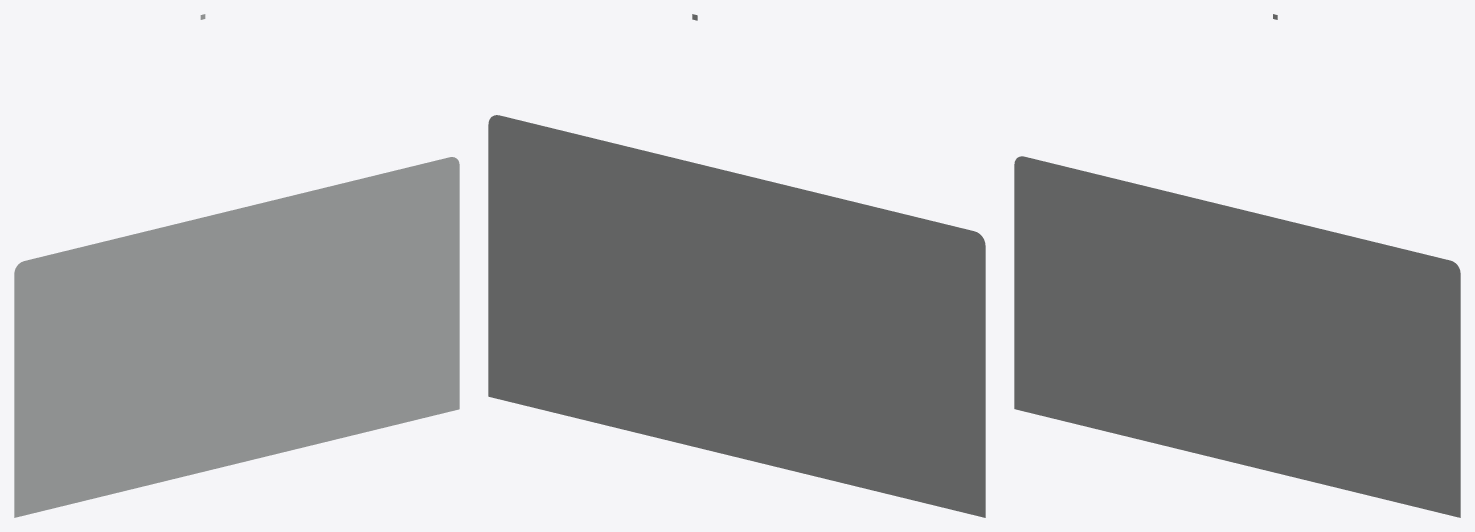
Rendered from MainMeshLaptop_2_1_GeomSubset_2.obj.
The picture shows the model from 3 angles, left to right: view 1: azimuth 30°, elevation 25°; view 2: azimuth 150°, elevation 25°; view 3: azimuth 330°, elevation 25°; orthographic projection. The views are drawn at different scales.
Visible parts, largest first — view 1: MainMeshLaptop_2_1_GeomSubset_2; view 2: MainMeshLaptop_2_1_GeomSubset_2; view 3: MainMeshLaptop_2_1_GeomSubset_2.
Boxes of the visible parts, bbox=[...] form: MainMeshLaptop_2_1_GeomSubset_2: bbox=[14, 14, 459, 517]; MainMeshLaptop_2_1_GeomSubset_2: bbox=[488, 14, 985, 517]; MainMeshLaptop_2_1_GeomSubset_2: bbox=[1014, 14, 1460, 517].
Bounding box in the file's own units: 0.1197 × 0.1085 × 0.0167.
